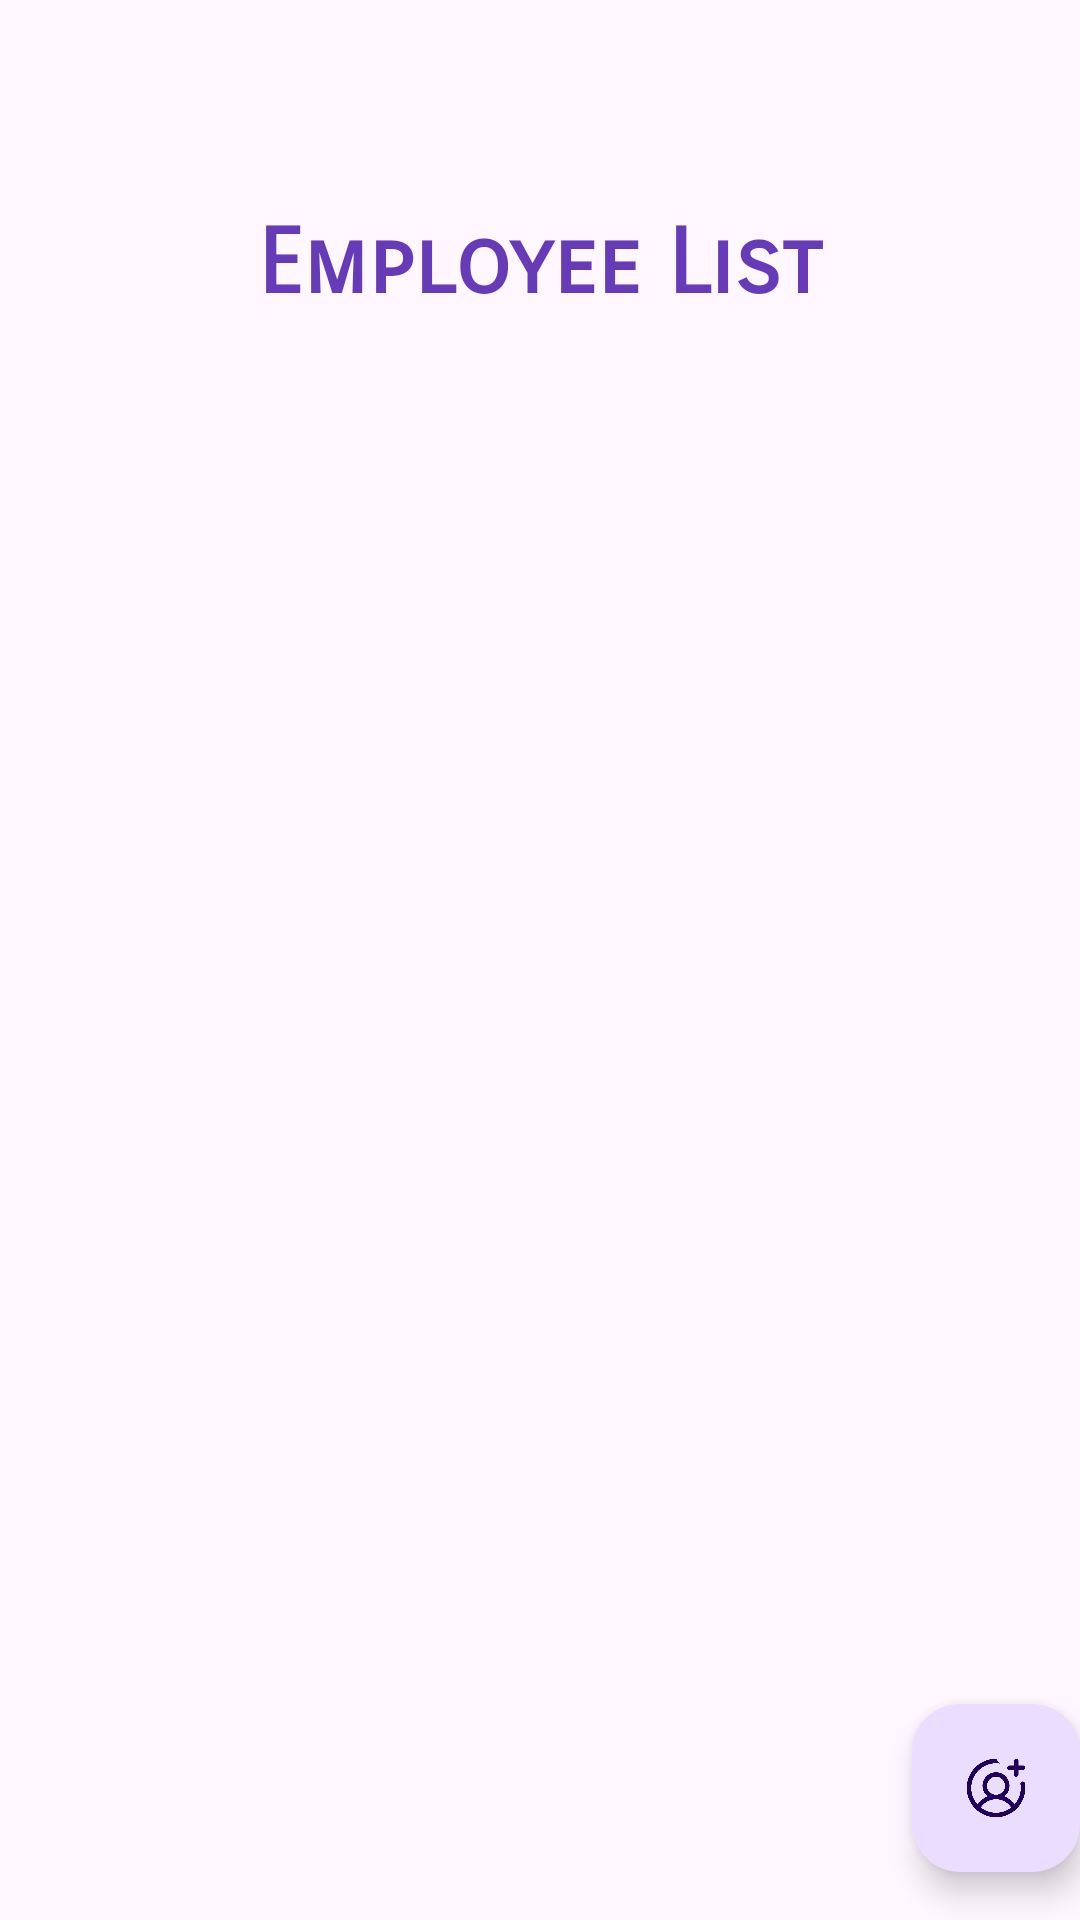

Screen size 1080px×1920px. Icon name, then its center in pixels as [x,y]:
user: [996,1788]
